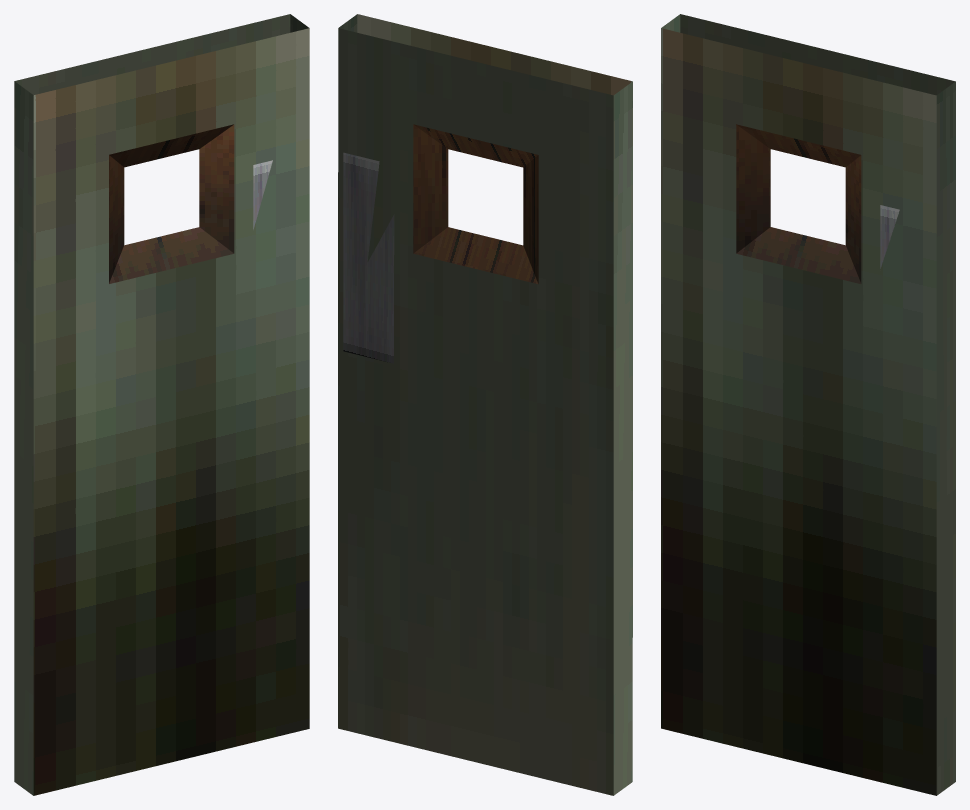
The model's file is primary_047.glb.
The picture shows the model from 3 angles, left to right: view 1: azimuth 30°, elevation 25°; view 2: azimuth 150°, elevation 25°; view 3: azimuth 330°, elevation 25°; orthographic projection.
Parts seen in each view (by area): view 1: Object; view 2: Object; view 3: Object.
Boxes of the visible parts, x1,y1,x2,y2 form: Object: (14, 14, 309, 795); Object: (338, 14, 632, 795); Object: (661, 14, 955, 795).
Bounding box in the file's own units: 1.05 × 2.54 × 0.1284.
Materials: 9 (9 with a texture image).
